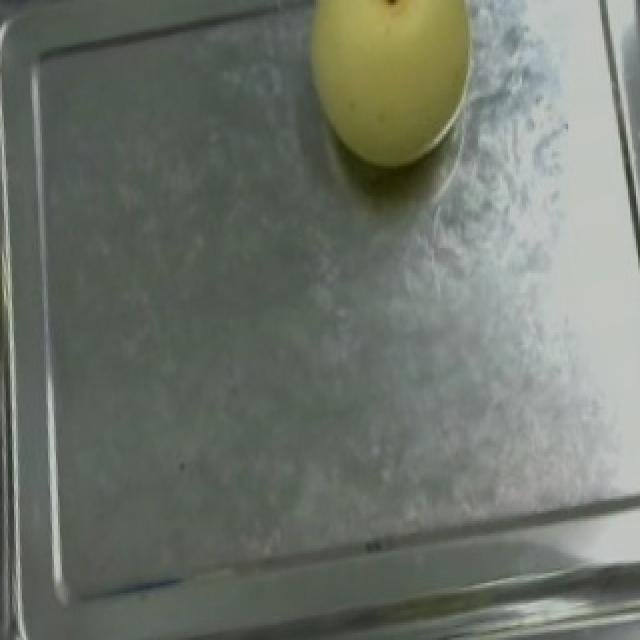Fruit: (278, 0, 498, 191)
